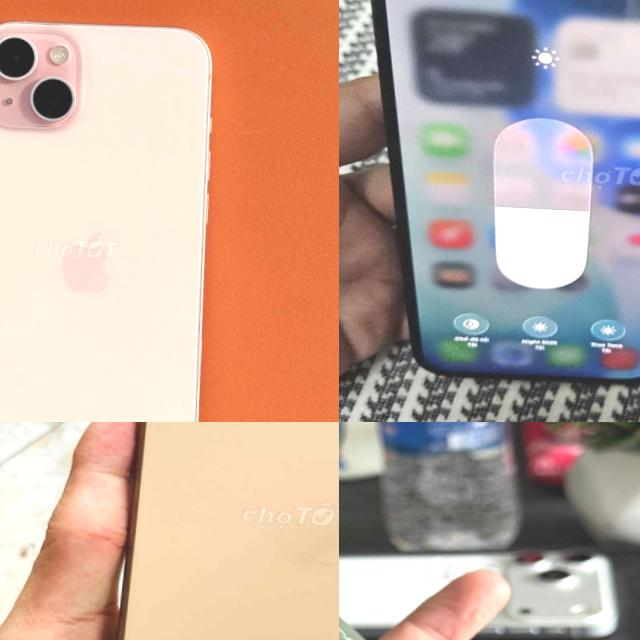gen_11: (100, 422, 339, 640)
gen_12_13: (341, 0, 640, 397), (339, 423, 628, 640)
gen_15: (0, 0, 232, 422)
